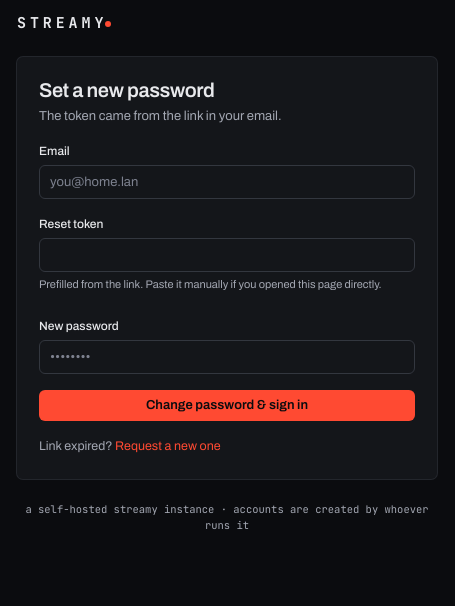
Test: ResetPassword screen › flags a missing token as the wrong length
Click the button "Change password & sign in" at (227, 406), box [39,390,415,421]
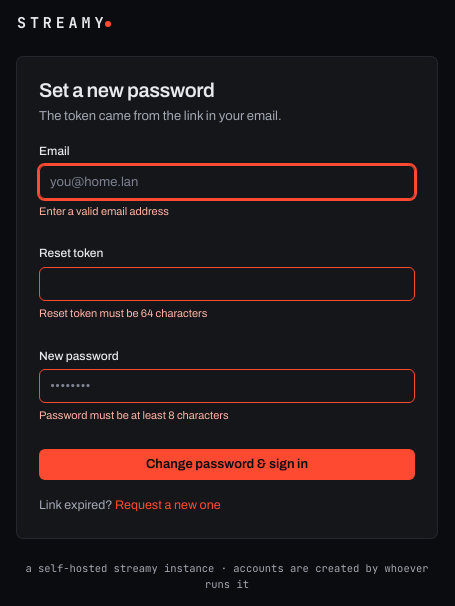
Check: the text "Reset token must be 64 characters" is shown, box [39,307,207,319]
Check: the text "Enter a valid email address" is shown, box [39,205,169,217]
Check: the text "Password must be at least 8 characters" is shown, box [39,409,229,421]
